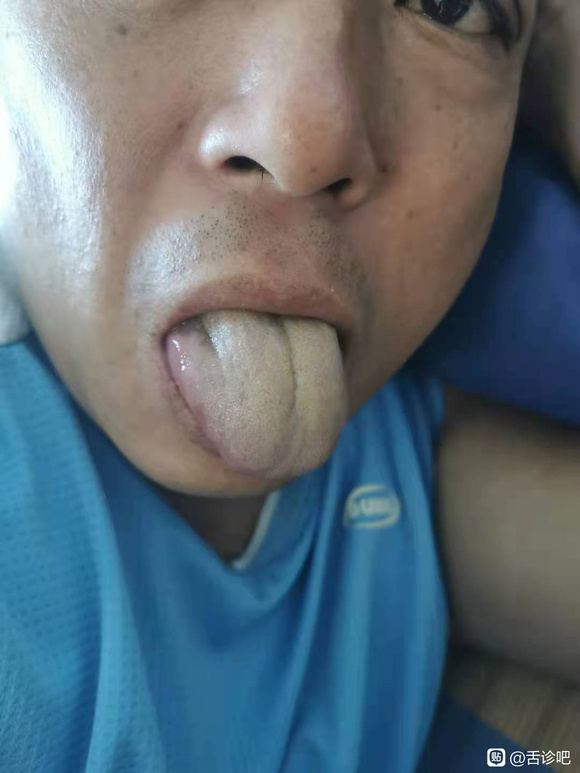gandanao: (168, 316, 224, 423)
huangtaishe: (167, 309, 347, 479)
liewenshe: (274, 317, 298, 419)
